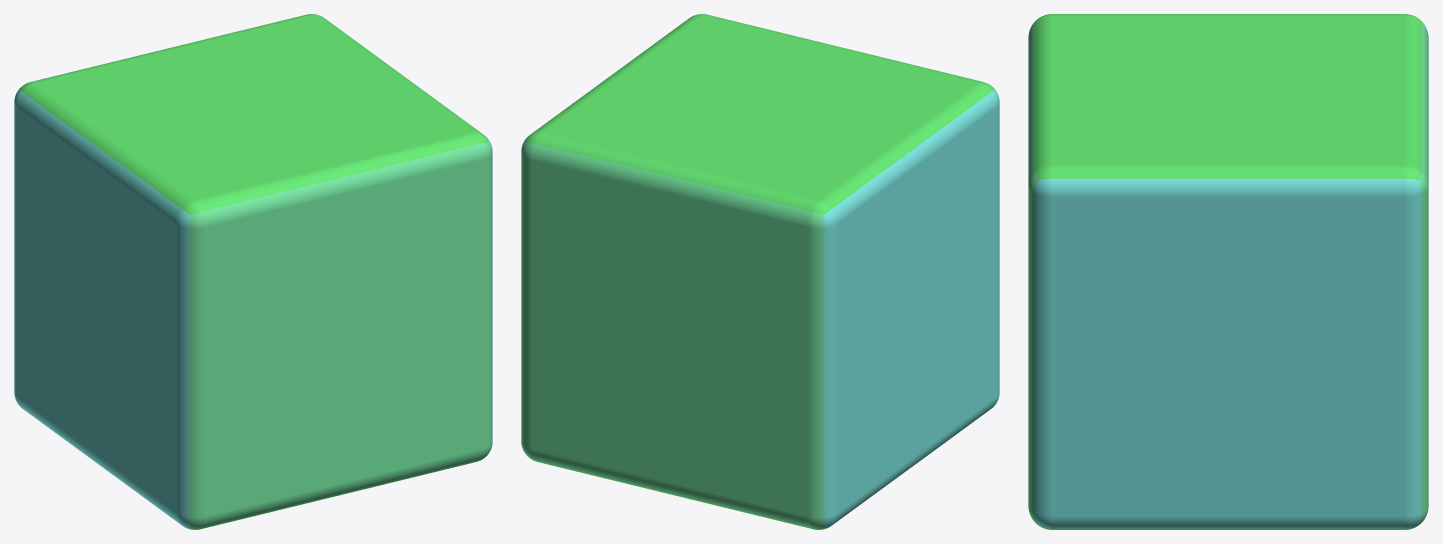
Rendered from Cube small.fbx.
The picture shows the model from 3 angles, left to right: view 1: azimuth 30°, elevation 25°; view 2: azimuth 150°, elevation 25°; view 3: azimuth 270°, elevation 25°; orthographic projection. The views are drawn at different scales.
Visible parts, largest first — view 1: Cube; view 2: Cube; view 3: Cube.
Part boxes in pixels (bbox=[...]): Cube: bbox=[14, 14, 492, 529]; Cube: bbox=[521, 14, 999, 529]; Cube: bbox=[1028, 14, 1428, 529].
Size of the model in its own units: 9.2 by 9.2 by 9.2.
